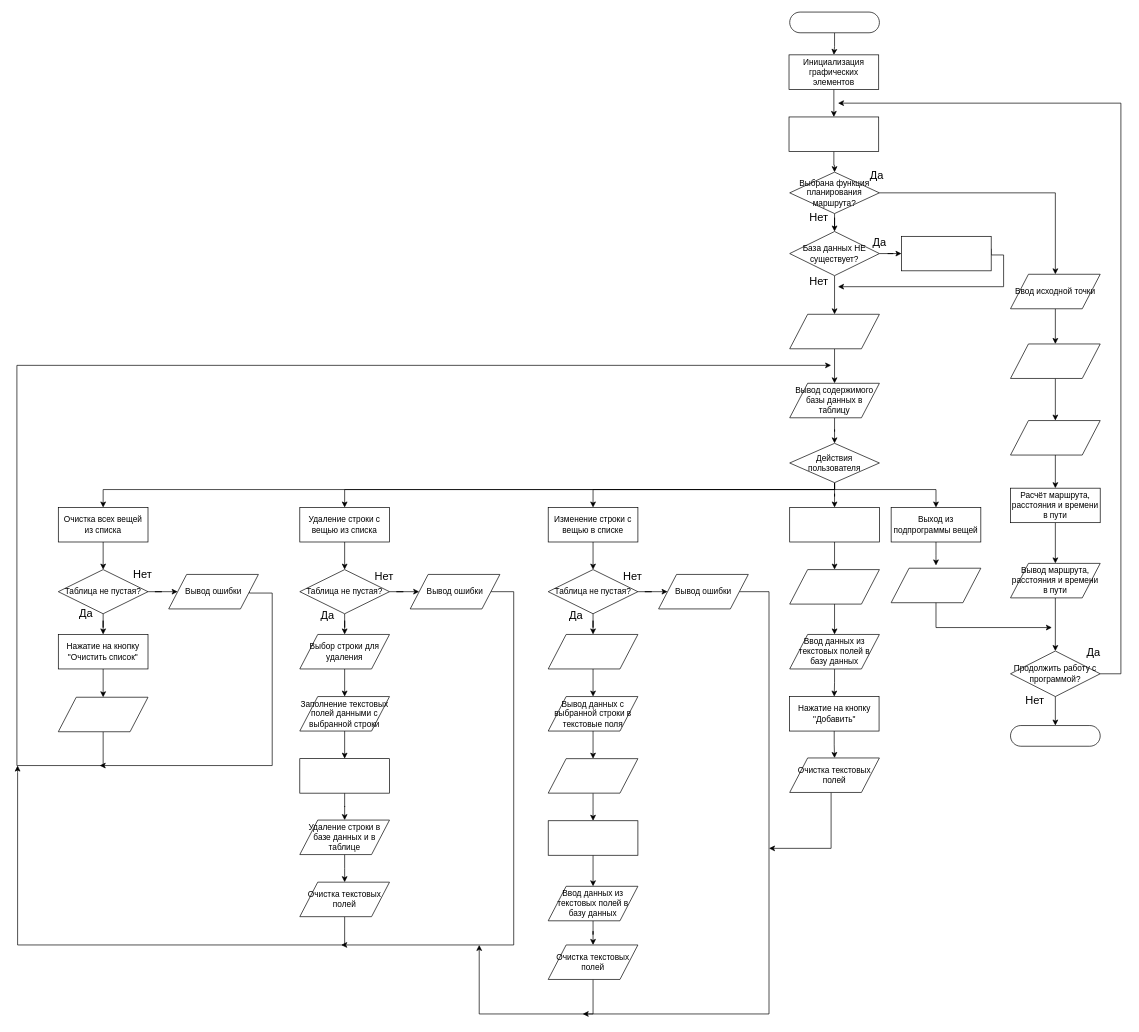
The diagram is 1139 pixels wide and 1032 high, and some of its shapes have lost their labels. The centre of each missing label's shape, as x and y in pixels:
Ввод данных в текстовые поля: pixel 834 586
Ввод изменённых данных в текстовые поля: pixel 593 775
Ввод средней скорости передвижения: pixel 1055 437
Ввод точки назначения: pixel 1055 360
Выбор пользователем расчёта маршрута или списка вещей: pixel 833 133
Выбор строки для редактирования: pixel 593 651
Добавление вещи в список: pixel 834 524
Загрузка базы данных с нужными вещами: pixel 834 331
Конец: pixel 1055 735
Нажатие на кнопку "Изменить данные": pixel 593 837
Нажатие на кнопку "Удалить данные": pixel 344 775
Начало: pixel 834 22
Создание базы данных: pixel 946 253
Сохранение базы данных с нужными вещами: pixel 935 585
Удаление всех строк в базе данных и таблице: pixel 103 714
